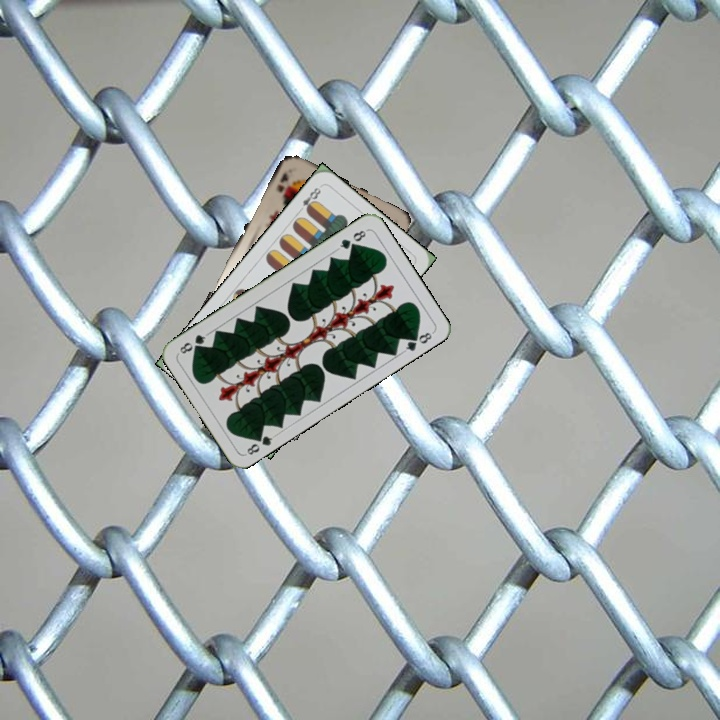E8: (294, 183, 324, 216)
G8: (243, 429, 278, 458), (334, 226, 370, 253)
SK: (272, 168, 291, 195)
